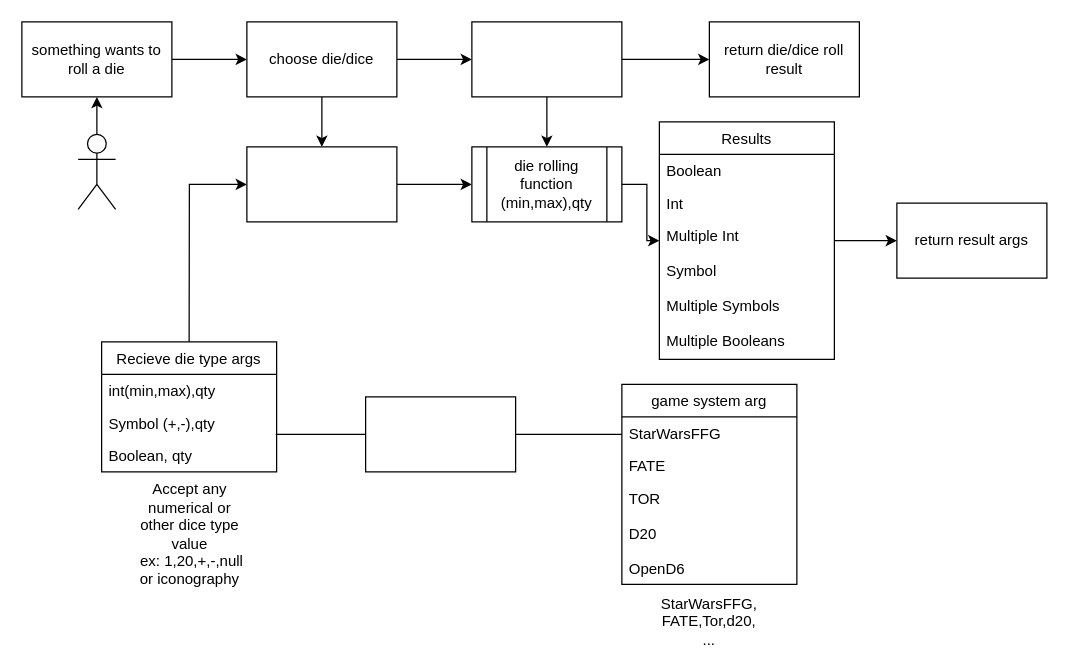
Image size: 1069x670. Some labels were removed from this diagram. Here are the shapes that lost their labels. From the top down, the centre of each, then its label:
the point at 546,59: roll chosen dice combination
the point at 96,171: Something
the point at 321,184: die object
the point at 440,434: recieve die quantity args
